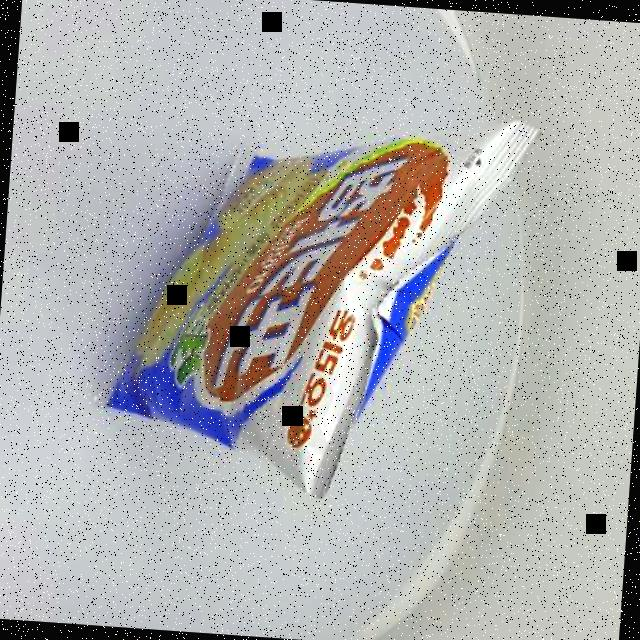snack_bag: (48, 42, 566, 536)
